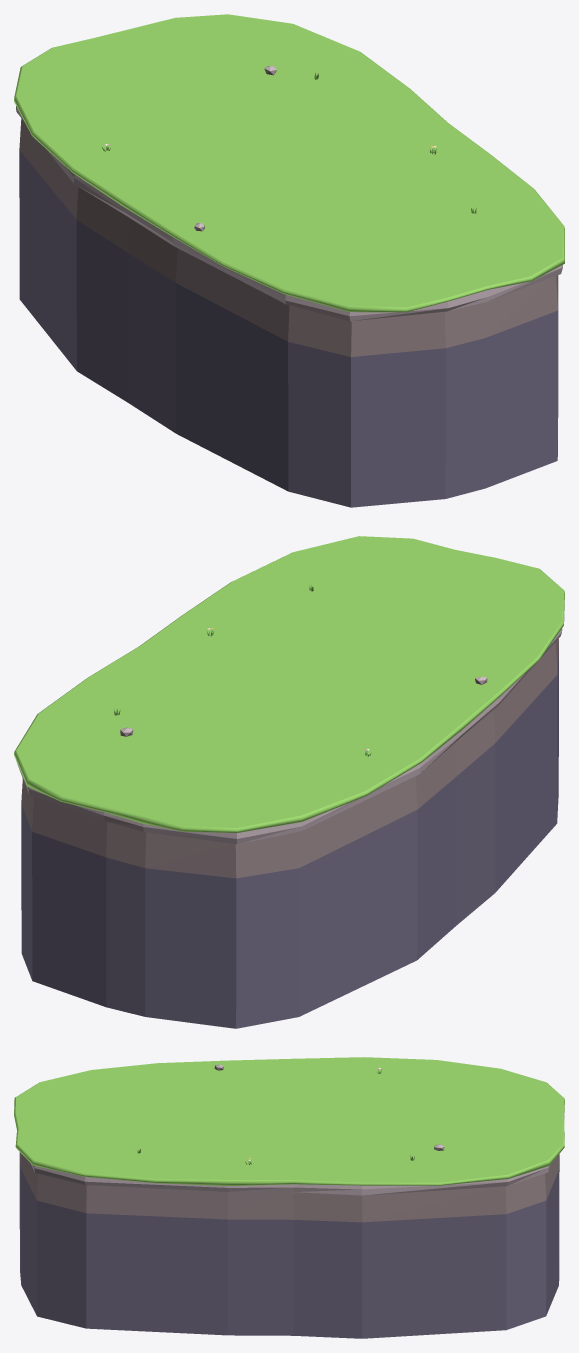
The model's file is cape-rock.glb.
3 views of the same model, one above another, from view 1: azimuth 30°, elevation 25°; view 2: azimuth 150°, elevation 25°; view 3: azimuth 270°, elevation 25° (orthographic). The views are drawn at different scales.
Parts seen in each view (by area): view 1: cape-rock; view 2: cape-rock; view 3: cape-rock.
Boxes of the visible parts, x1,y1,x2,y2 form: cape-rock: [14, 14, 564, 507]; cape-rock: [14, 536, 564, 1028]; cape-rock: [14, 1057, 564, 1338].
Size of the model in its own units: 60 by 35.91 by 110.
